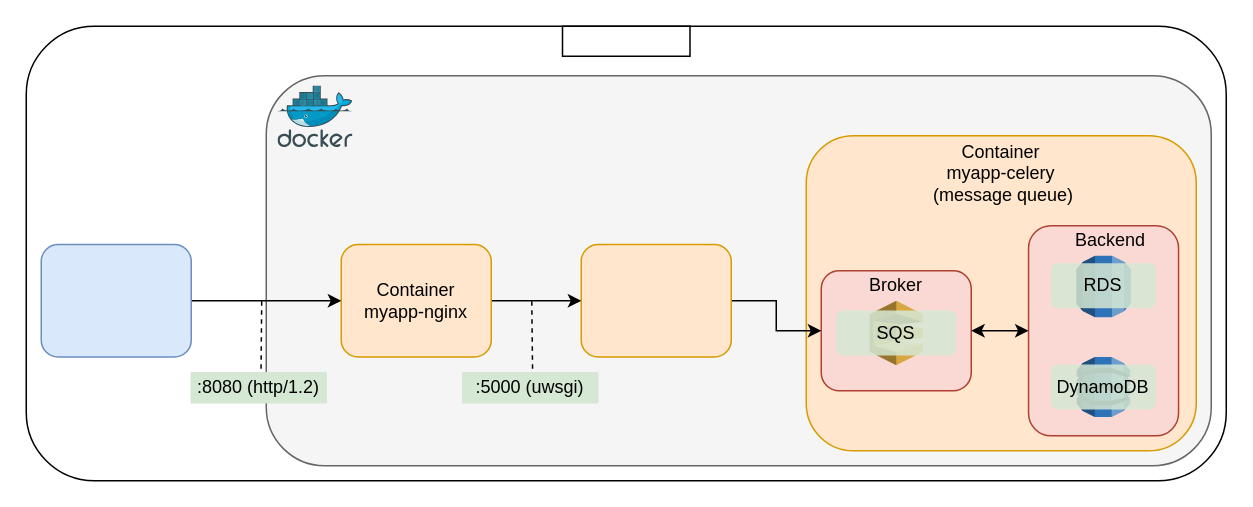
The diagram is 1253 pixels wide and 507 high, and some of its shapes have lost their labels. Each missing label, with the centre of its shape:
"Browser / /status/<task_id>" goes at (x=115, y=300).
"Container myapp-flask (Debugger)" goes at (x=655, y=300).
"Your Machine" goes at (x=625, y=40).
